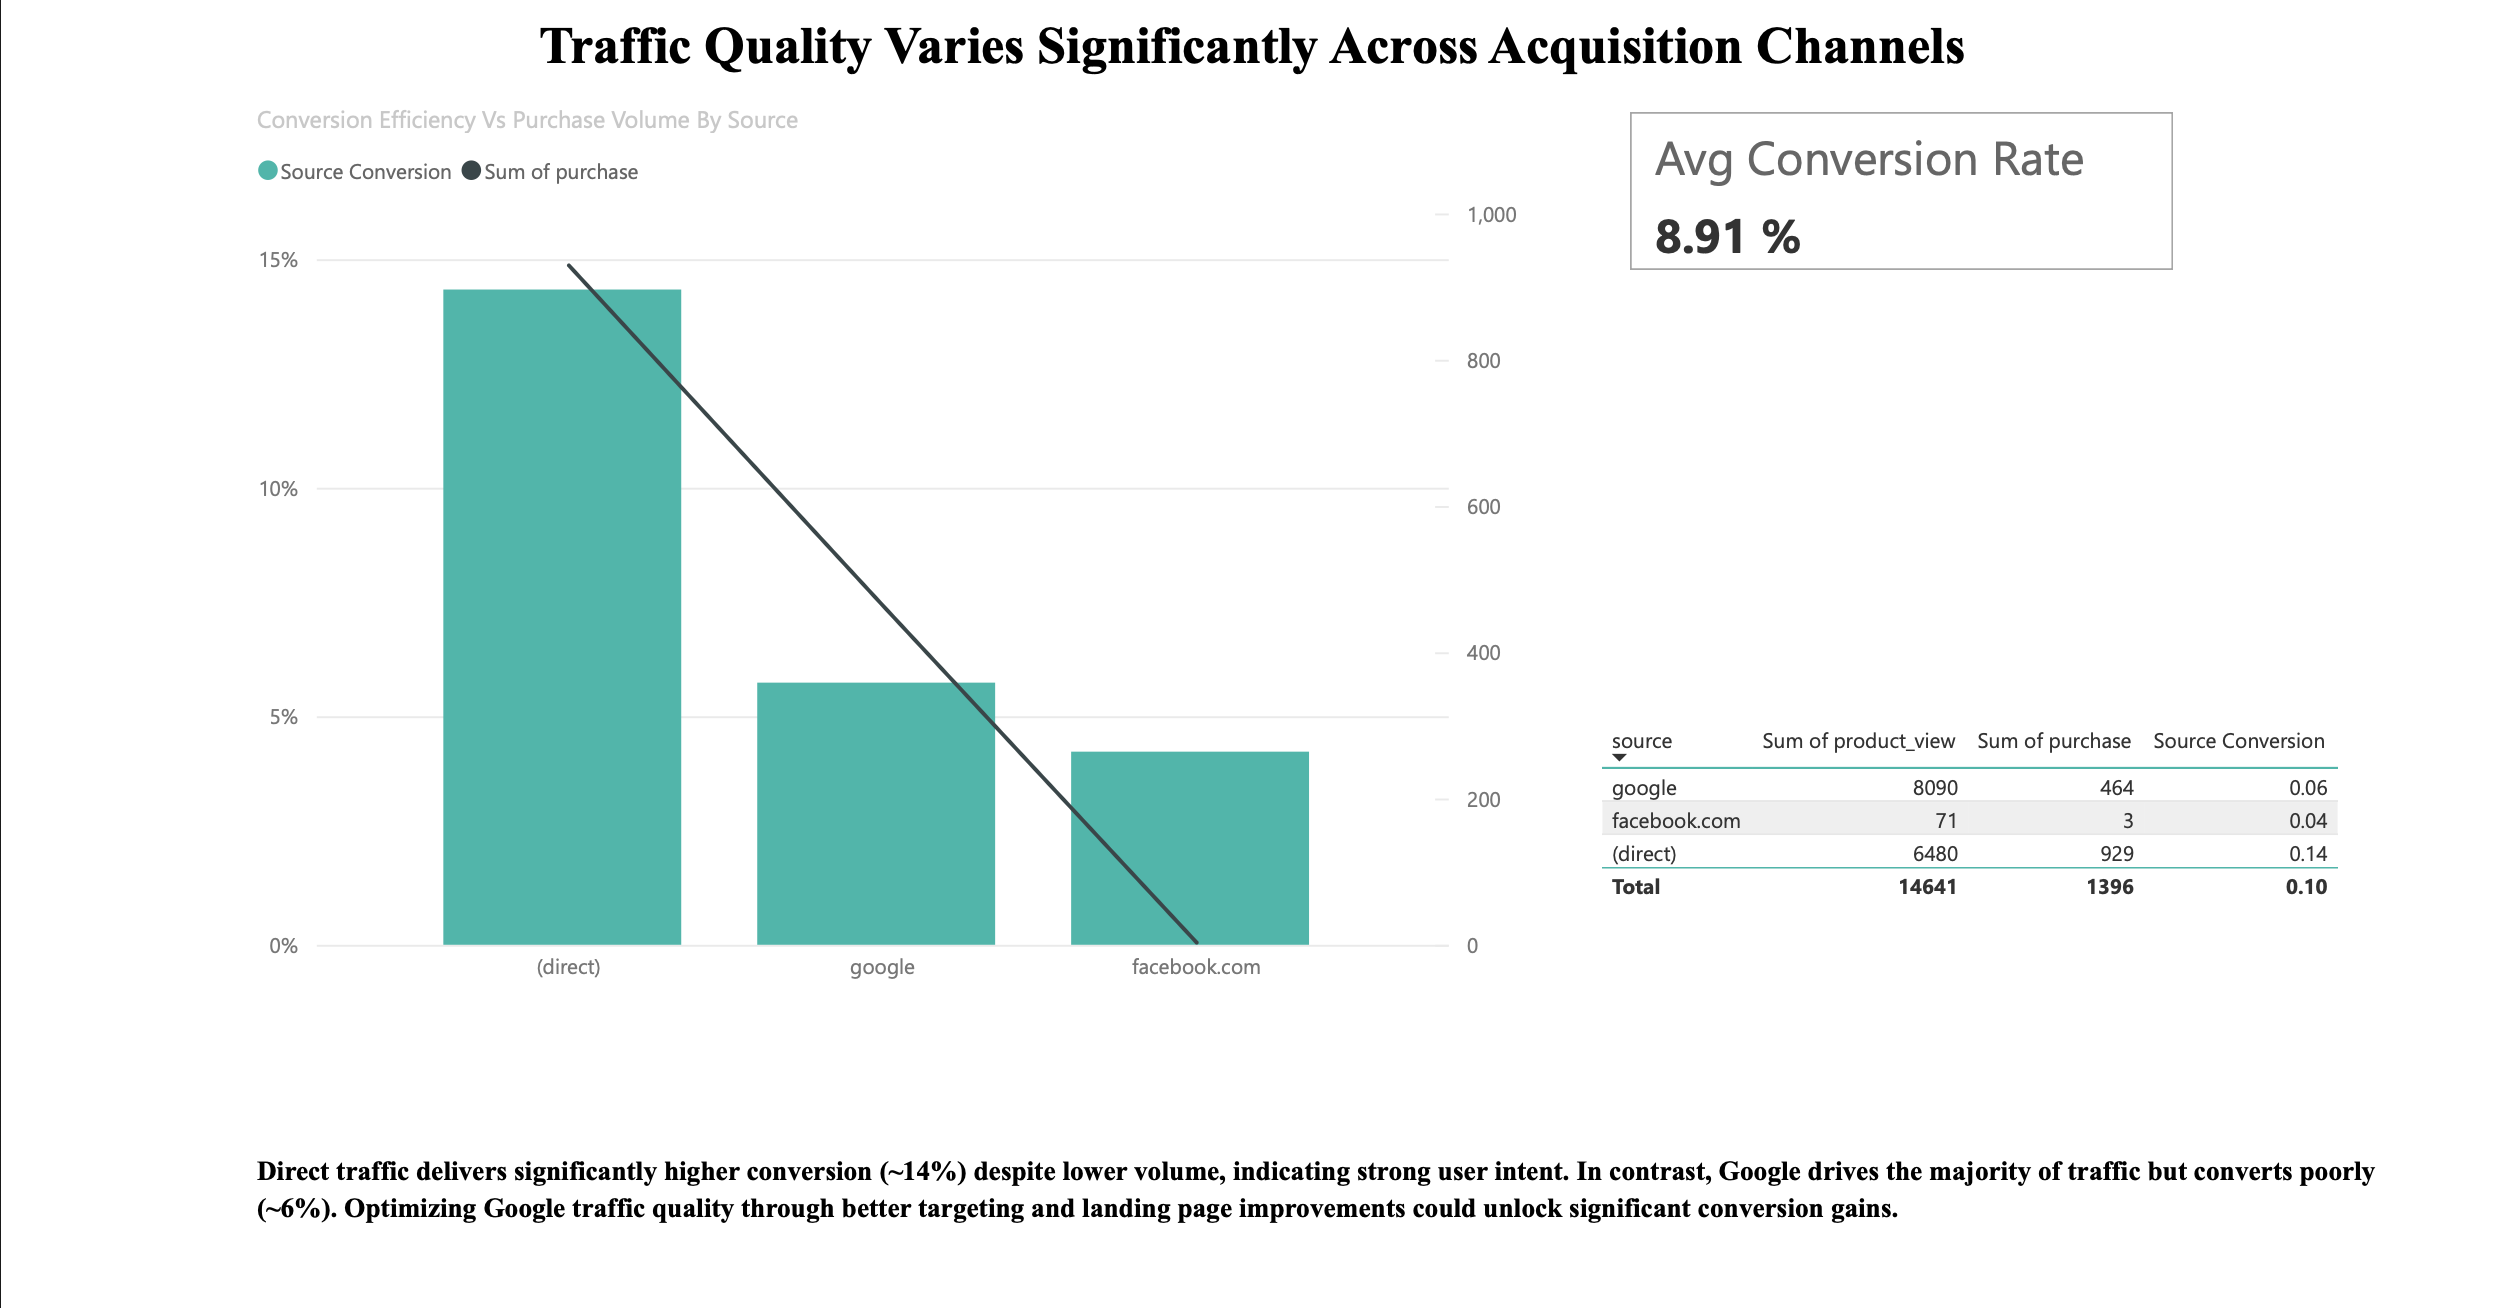

This screenshot's page, from the dashboard's own definition file:
{"tool":"powerbi","page":{"name":"Source_Analysis","canvas":[1280,720],"ordinal":2},"visuals":[{"type":"textbox","box":[0,0,1280,49.1],"z":0},{"type":"tableEx","fields":{"Values":["funnel_source.source","Sum(funnel_source.product_view)","Sum(funnel_source.purchase)","funnel_source.Source Conversion"]},"box":[812.8,360.5,392.5,106.7],"z":3},{"type":"lineClusteredColumnComboChart","title":"Conversion Efficiency Vs Purchase Volume By Source","fields":{"Y2":["Sum(funnel_source.purchase)"],"Category":["funnel_source.source"],"Y":["funnel_source.Source Conversion"]},"box":[125.9,49.1,654.9,458.7],"z":4},{"type":"textbox","box":[125.9,580.3,1094.4,87.5],"z":5},{"type":"cardVisual","fields":{"Data":["funnel_source.Source Conversion"]},"box":[827.7,49.1,288,91.7],"z":6}]}

Visuals, with their boxes on the page's 1280x720 design canvas (x1, y1, x2, y2). These are canvas units, not pixel positions in the 2500x1308 screenshot, which may show the page scaled, cropped or inside an application window:
textbox: select_region(0, 0, 1280, 49)
tableEx - funnel_source.source x Sum(funnel_source.product_view): select_region(813, 360, 1205, 467)
"Conversion Efficiency Vs Purchase Volume By Source" lineClusteredColumnComboChart: select_region(126, 49, 781, 508)
textbox: select_region(126, 580, 1220, 668)
cardVisual - funnel_source.Source Conversion: select_region(828, 49, 1116, 141)
